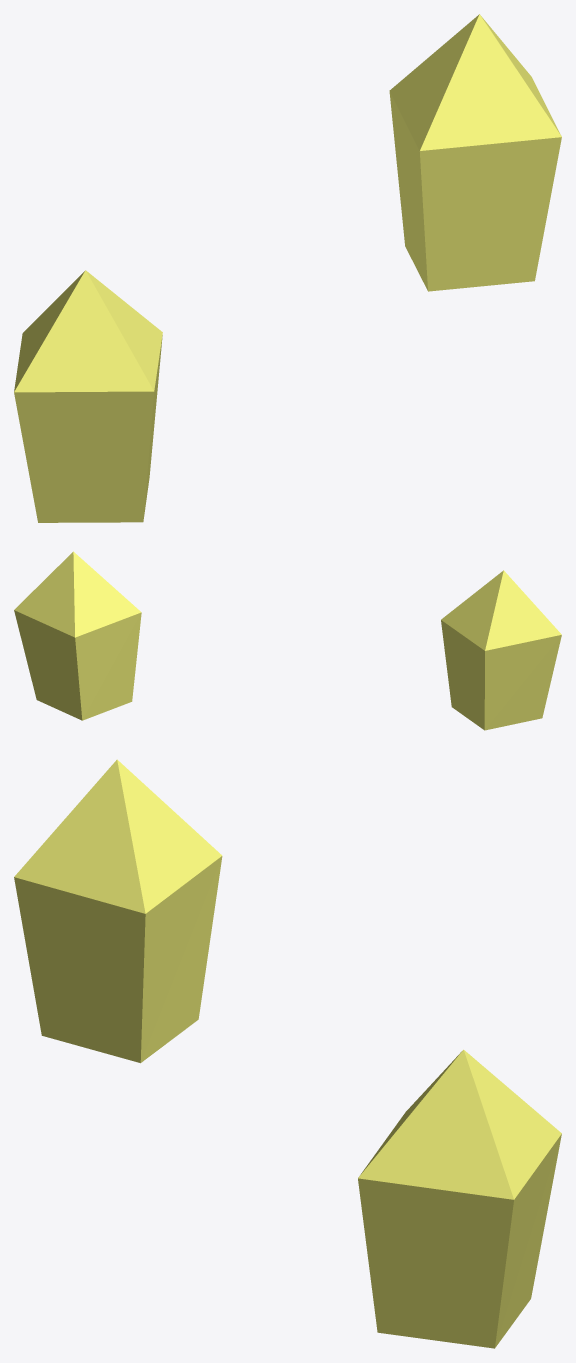
Rendered from crystal_aer_1.obj.
The picture shows the model from 3 angles, top to bottom: view 1: azimuth 30°, elevation 25°; view 2: azimuth 150°, elevation 25°; view 3: azimuth 270°, elevation 25°; orthographic projection. The views are drawn at different scales.
Parts seen in each view (by area): view 1: s014, s015; view 2: s014, s015; view 3: s015, s014.
Boxes of the visible parts, <box> form: s014: <box>389,14,561,291</box>; s015: <box>14,270,162,522</box>; s014: <box>14,551,141,720</box>; s015: <box>441,570,561,730</box>; s015: <box>14,759,222,1063</box>; s014: <box>358,1049,561,1348</box>.
Size of the model in its own units: 0.8279 by 0.2728 by 0.4947.
